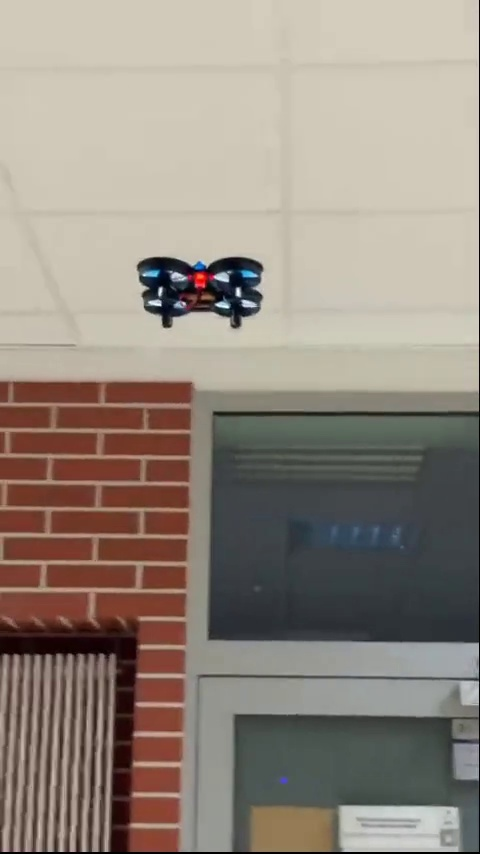drone: (136, 256, 266, 332)
